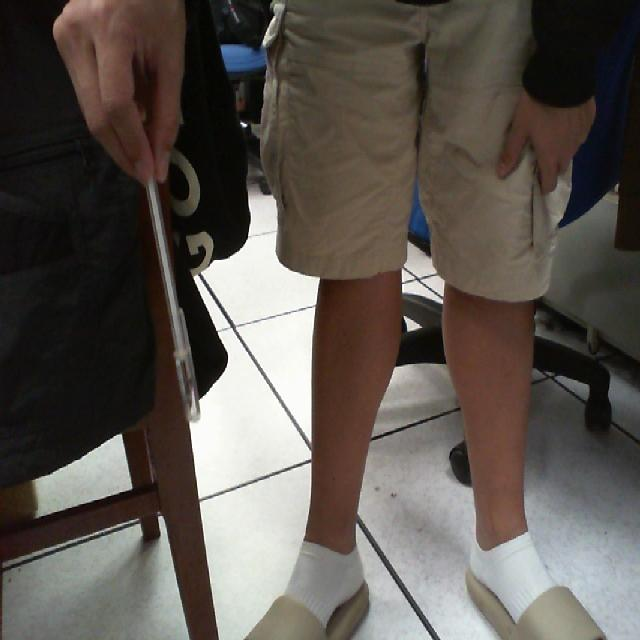Pen: (122, 141, 234, 450)
